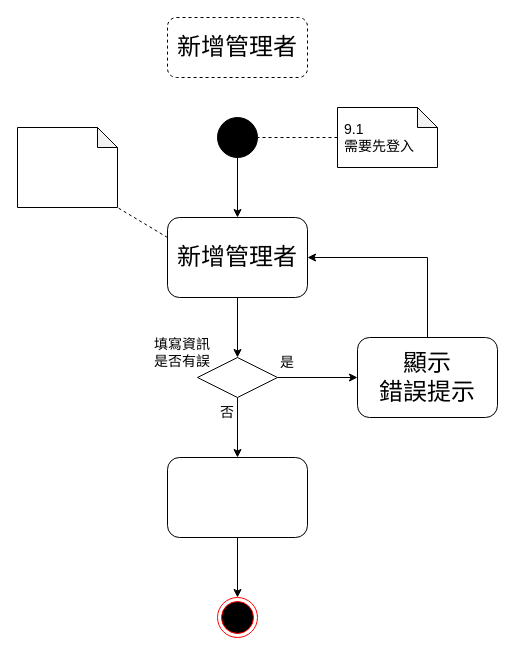
Some shapes in this 515 by 655 pixel diagram are drawn without their labels. The centre of each missing label's shape, as x and y in pixels:
9.2 姓名 信箱 密碼: [67,167]
新增完成: [237,497]
